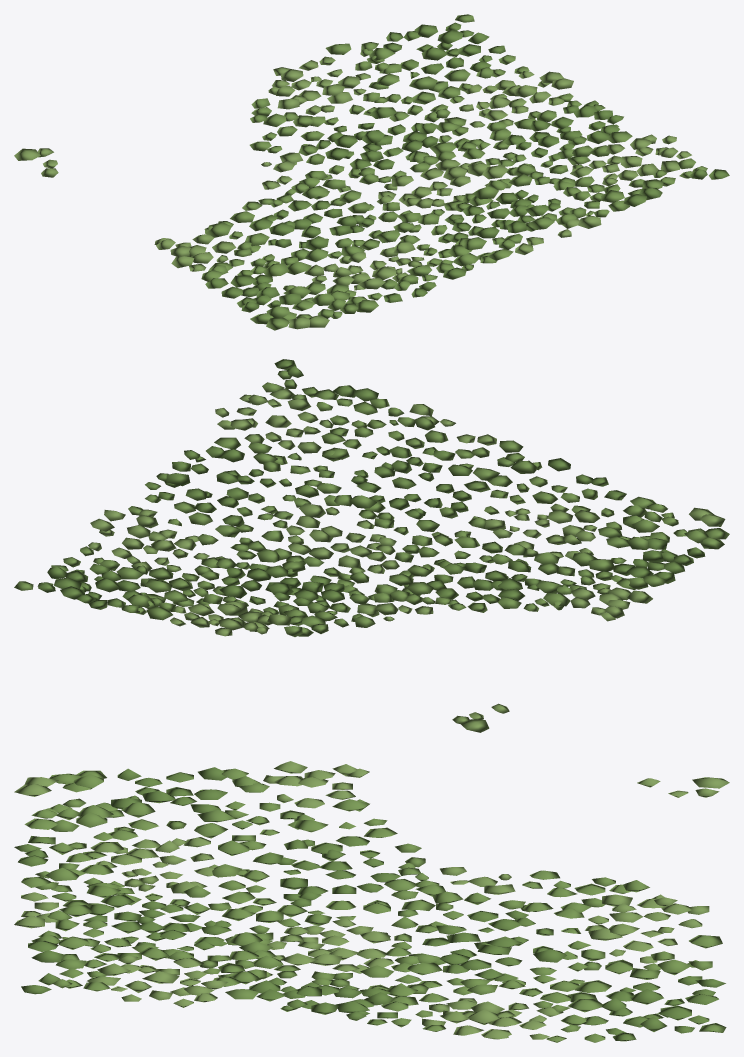
The model's file is canopy-1--4--2.glb.
The picture shows the model from 3 angles, top to bottom: view 1: azimuth 30°, elevation 25°; view 2: azimuth 150°, elevation 25°; view 3: azimuth 270°, elevation 25°; orthographic projection. The views are drawn at different scales.
Size of the model in its own units: 518 by 75 by 518.
Materials: 1 (1 with a texture image).
